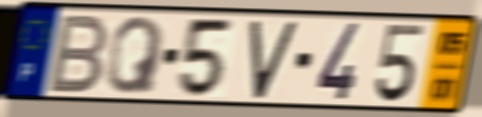4: (314, 20, 360, 103)
5: (173, 15, 243, 100), (372, 22, 428, 105)
B: (44, 12, 112, 95)
Q: (103, 14, 168, 96)
V: (247, 18, 301, 102)
